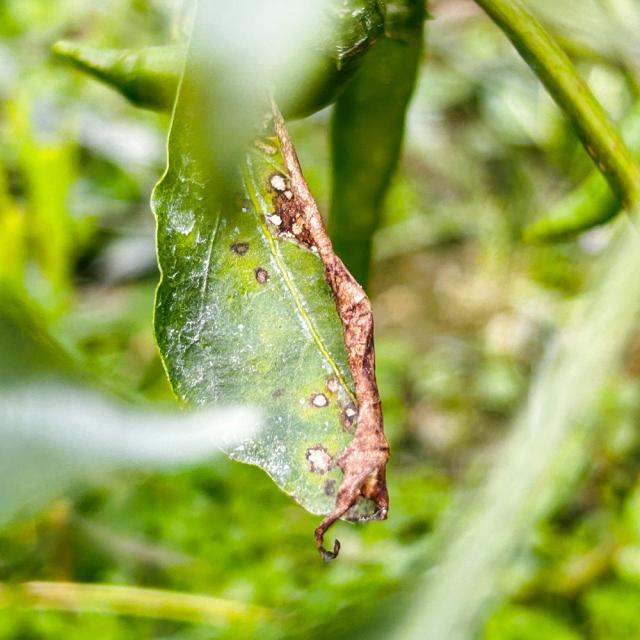Bercak Daun Serkospora: (148, 0, 407, 550)
